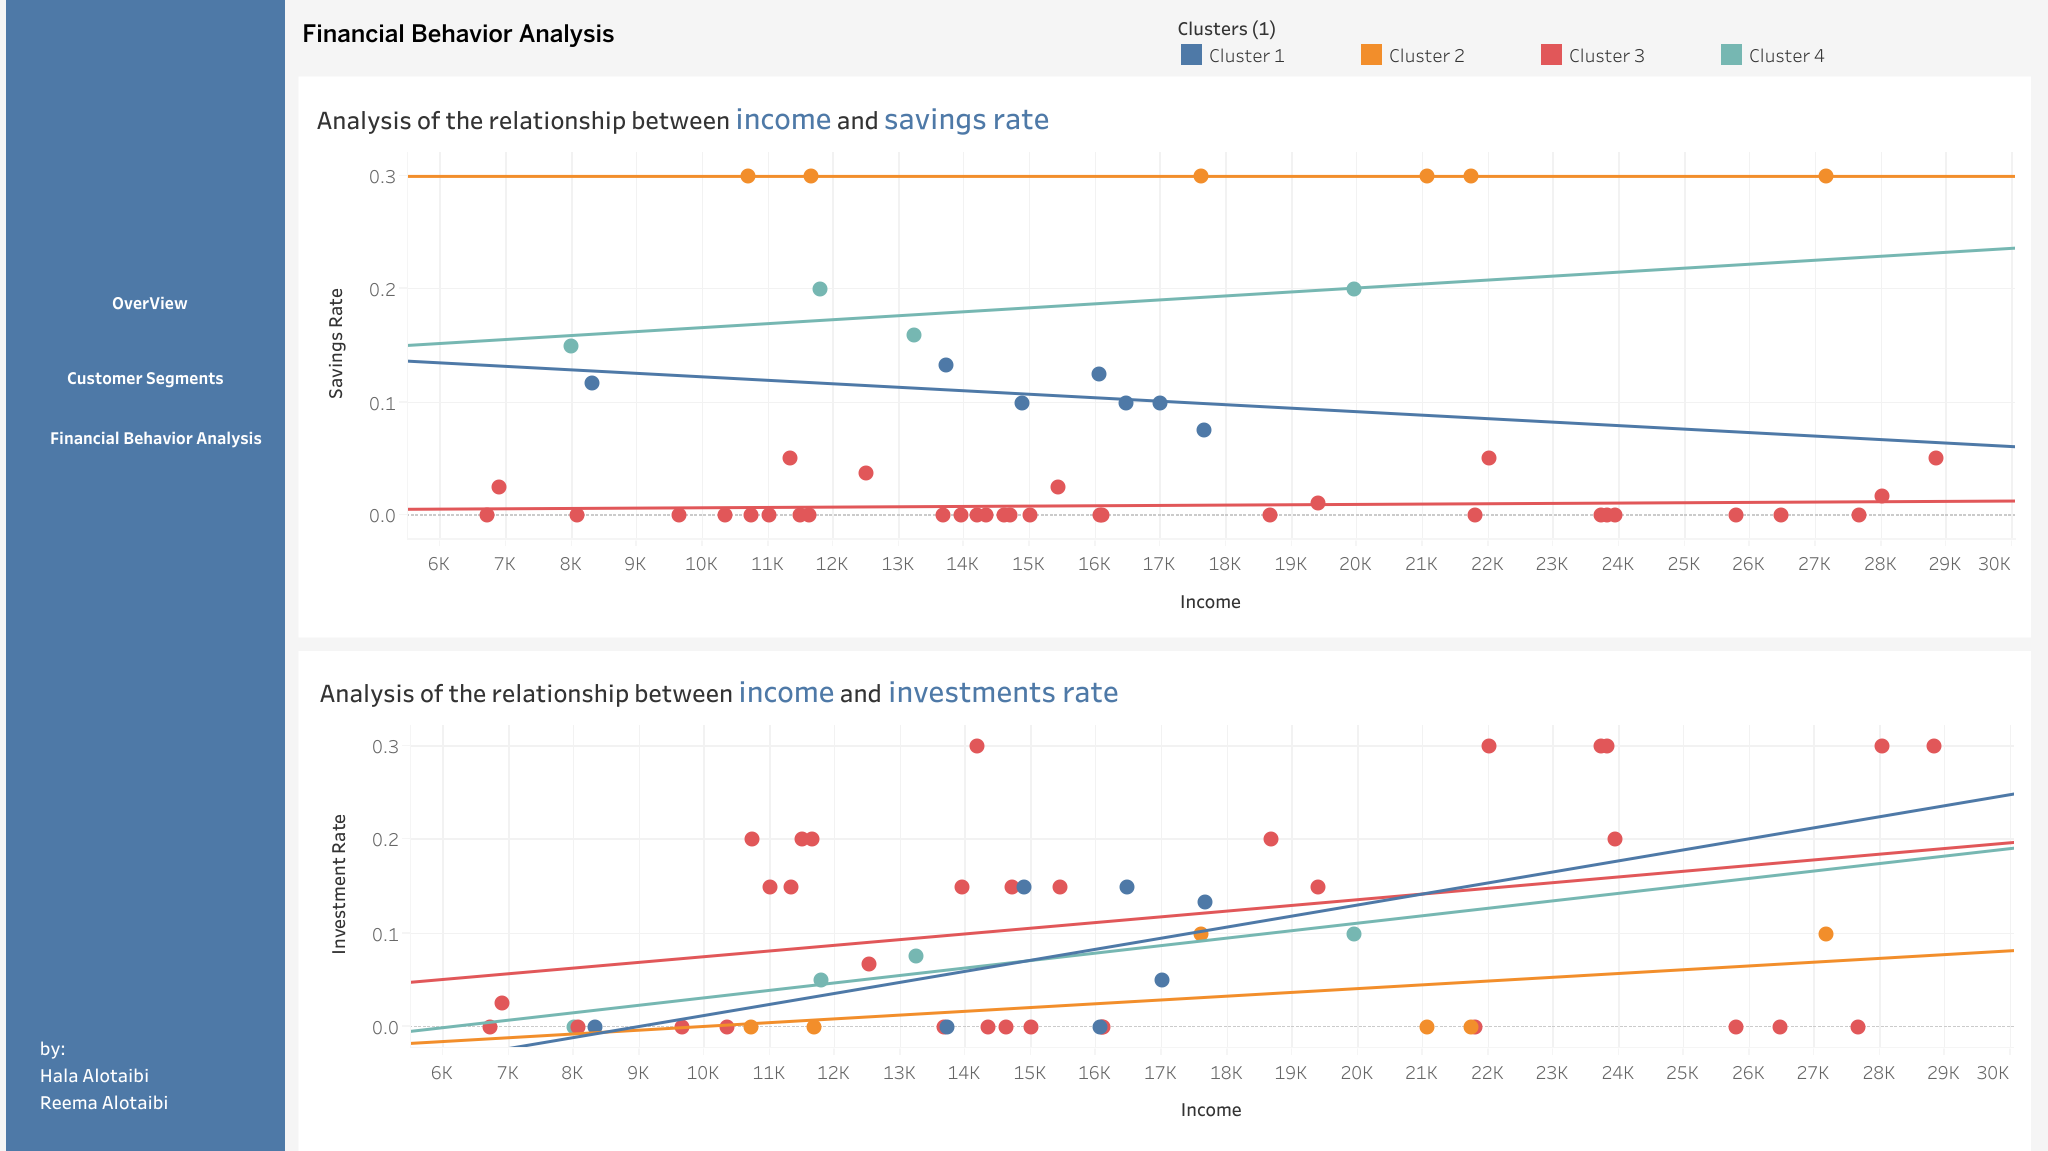

The dashboard page shown, as its layout file describes it:
{"tool":"tableau","page":{"name":"Financial Behavior Analysis","canvas":[1366,768],"ordinal":1},"visuals":[{"type":"text","box":[199,7,475,30]},{"type":"legend","title":"Sheet 16","param":"[federated.18u8vej0kb0r1h136gkt71jmwwfj].[none:AdhocCluster:2:ok]","box":[784,7,563,43]},{"type":"worksheet","title":"Sheet 16","mark":"Circle","rows":["Savings_Rate"],"cols":["Income"],"box":[207,59,1136,357]},{"type":"dashboard-object","box":[18,175,164,52]},{"type":"dashboard-object","box":[9,229,176,44]},{"type":"dashboard-object","box":[16,269,176,44]},{"type":"worksheet","title":"Sheet 17","mark":"Circle","rows":["Investment_Rate"],"cols":["Income"],"box":[209,441,1133,314]},{"type":"text","box":[24,678,137,75]}]}

Visuals, with their boxes on the page's 1366x768 design canvas (x1, y1, x2, y2). These are canvas units, not pixel positions in the 2048x1151 screenshot, which may show the page scaled, cropped or inside an application window:
text: 199, 7, 674, 37
"Sheet 16" legend: 784, 7, 1347, 50
"Sheet 16" worksheet (Circle marks): 207, 59, 1343, 416
dashboard-object: 18, 175, 182, 227
dashboard-object: 9, 229, 185, 273
dashboard-object: 16, 269, 192, 313
"Sheet 17" worksheet (Circle marks): 209, 441, 1342, 755
text: 24, 678, 161, 753
